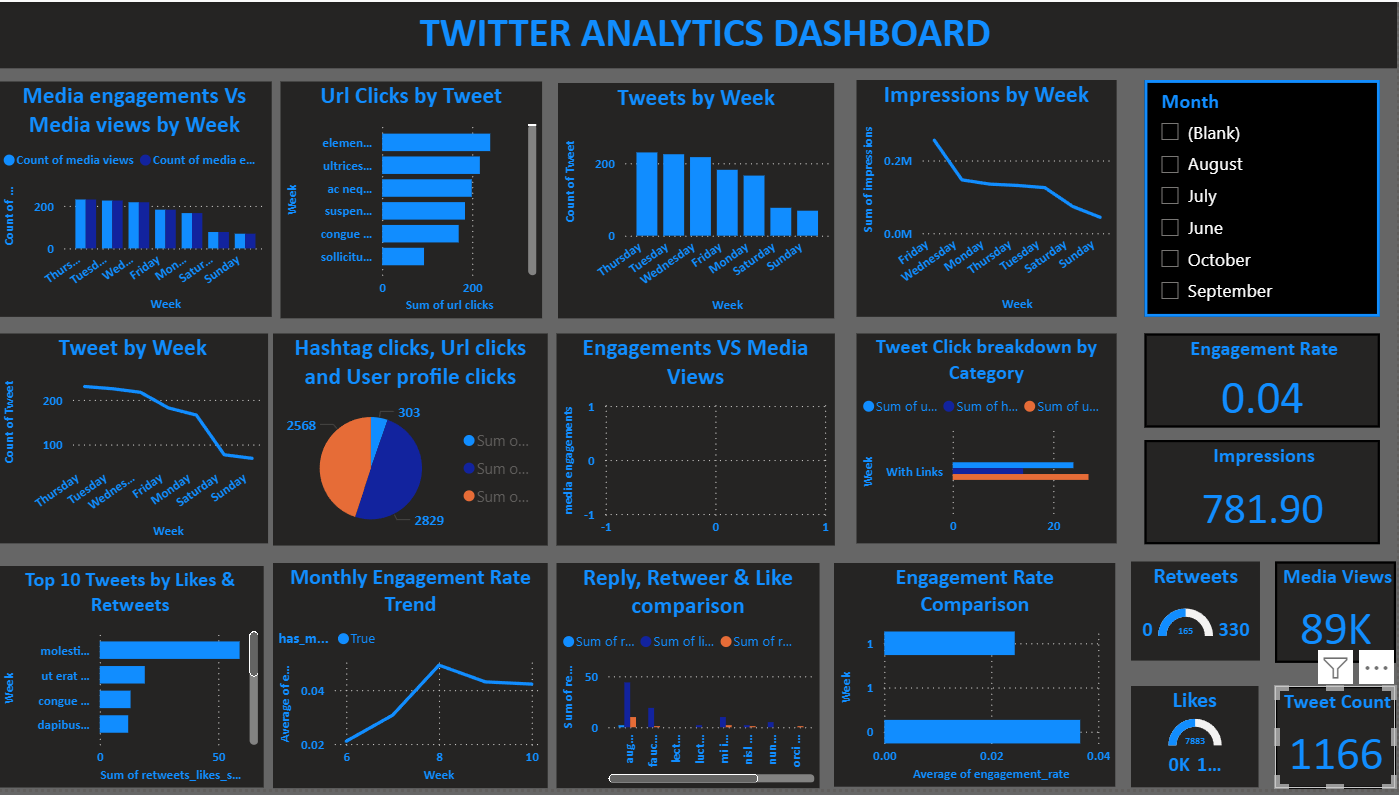

Layout of this report page (visuals, bound fields, positions):
{"tool":"powerbi","page":{"name":"Page 1","canvas":[1280,720],"ordinal":0},"visuals":[{"type":"card","title":"Media Views","fields":{"Values":["Sum(SocialMedia.media views)"]},"box":[1169,511.8,110.5,92.4],"z":0},{"type":"card","title":"Impressions","fields":{"Values":["Avg(SocialMedia.impressions)"]},"box":[1049.3,401.3,215,95.4],"z":1000},{"type":"card","title":"Engagement Rate","fields":{"Values":["Avg(SocialMedia.engagement rate)"]},"box":[1049.3,302.8,215,86.3],"z":2000},{"type":"card","title":"Tweet Count","fields":{"Values":["CountNonNull(SocialMedia.Tweet)"]},"box":[1169,625.4,110.5,93.9],"z":3000},{"type":"gauge","title":"Likes","fields":{"Y":["Sum(SocialMedia.likes)"]},"box":[1037.2,625.4,116.6,92.4],"z":4000},{"type":"gauge","title":"Retweets","fields":{"Y":["Max(SocialMedia.retweets)"]},"box":[1037.2,511.8,118.1,90.9],"z":5000},{"type":"slicer","fields":{"Values":["SocialMedia.MonthName"]},"box":[1049.3,71.2,215,216.5],"z":6000},{"type":"lineChart","title":"Tweet by Week","fields":{"Y":["Count(SocialMedia.Tweet)"],"Category":["SocialMedia.DayWeek"]},"box":[0,302.8,248.3,192.3],"z":7000},{"type":"lineChart","title":"Impressions by Week","fields":{"Category":["SocialMedia.DayWeek"],"Y":["Sum(SocialMedia.impressions)"]},"box":[785.9,71.2,237.7,216.5],"z":8000},{"type":"clusteredBarChart","title":"Url Clicks by Tweet","fields":{"Category":["SocialMedia.Tweet"],"Y":["Sum(SocialMedia.url clicks)"]},"box":[258.9,72.7,239.2,216.5],"z":9000},{"type":"pieChart","title":"Hashtag clicks, Url clicks and User profile clicks","fields":{"Y":["Sum(SocialMedia.hashtag clicks)","Sum(SocialMedia.url clicks)","Sum(SocialMedia.user profile clicks)"]},"box":[252.9,302.8,251.4,193.8],"z":10000},{"type":"clusteredColumnChart","title":"Media engagements Vs Media views by Week","fields":{"Category":["SocialMedia.DayWeek"],"Y":["CountNonNull(SocialMedia.media views)","CountNonNull(SocialMedia.media engagements)"]},"box":[0,72.7,251.4,215],"z":11000},{"type":"clusteredColumnChart","title":"Tweets by Week","fields":{"Category":["SocialMedia.DayWeek"],"Y":["CountNonNull(SocialMedia.Tweet)"]},"box":[513.3,74.2,252.9,215],"z":12000},{"type":"clusteredBarChart","title":"Top 10 Tweets by Likes & Retweets","fields":{"Category":["SocialMedia.tweet_text"],"Y":["Sum(SocialMedia.retweets_likes_sum)"]},"box":[0,516.3,243.8,202.9],"z":13000},{"type":"clusteredBarChart","title":"Tweet Click breakdown by Category","fields":{"Category":["SocialMedia.Tweet Category"],"Y":["Sum(SocialMedia.user profile clicks)","Sum(SocialMedia.hashtag clicks)","Sum(SocialMedia.url clicks)"]},"box":[785.9,302.8,237.7,192.3],"z":14000},{"type":"lineChart","title":"Monthly Engagement Rate Trend","fields":{"Category":["SocialMedia.Month"],"Y":["Avg(SocialMedia.engagement rate)"],"Series":["SocialMedia.has_media"]},"box":[252.9,513.3,251.4,205.9],"z":15000},{"type":"clusteredColumnChart","title":"Reply, Retweer & Like comparison","fields":{"Category":["SocialMedia.Tweet"],"Y":["Sum(SocialMedia.retweets)","Sum(SocialMedia.likes)","Sum(SocialMedia.replies)"]},"box":[511.8,513.3,240.8,205.9],"z":16000},{"type":"clusteredBarChart","title":"Engagement Rate Comparison","fields":{"Y":["Avg(SocialMedia.engagement_rate)"],"Category":["SocialMedia.app_opens"]},"box":[766.2,513.3,257.4,204.4],"z":17000},{"type":"scatterChart","title":"Engagements VS Media Views","fields":{"X":["SocialMedia.media views"],"Y":["SocialMedia.media engagements"]},"box":[511.8,302.8,254.4,193.8],"z":18000},{"type":"textbox","box":[0,0,1281,60.6],"z":19000}]}

Visuals, with their boxes in screenshot pixels (x1, y1, x2, y2), scaled from the page's 1280x720 canvas onto the 1399x795 screenshot:
"Media Views" card: l=1278, t=565, r=1398, b=667
"Impressions" card: l=1147, t=443, r=1382, b=548
"Engagement Rate" card: l=1147, t=334, r=1382, b=430
"Tweet Count" card: l=1278, t=691, r=1398, b=794
"Likes" gauge: l=1134, t=691, r=1261, b=793
"Retweets" gauge: l=1134, t=565, r=1263, b=665
slicer - SocialMedia.MonthName: l=1147, t=79, r=1382, b=318
"Tweet by Week" lineChart: l=0, t=334, r=271, b=547
"Impressions by Week" lineChart: l=859, t=79, r=1119, b=318
"Url Clicks by Tweet" clusteredBarChart: l=283, t=80, r=544, b=319
"Hashtag clicks, Url clicks and User profile clicks" pieChart: l=276, t=334, r=551, b=548
"Media engagements Vs Media views by Week" clusteredColumnChart: l=0, t=80, r=275, b=318
"Tweets by Week" clusteredColumnChart: l=561, t=82, r=837, b=319
"Top 10 Tweets by Likes & Retweets" clusteredBarChart: l=0, t=570, r=266, b=794
"Tweet Click breakdown by Category" clusteredBarChart: l=859, t=334, r=1119, b=547
"Monthly Engagement Rate Trend" lineChart: l=276, t=567, r=551, b=794
"Reply, Retweer & Like comparison" clusteredColumnChart: l=559, t=567, r=823, b=794
"Engagement Rate Comparison" clusteredBarChart: l=837, t=567, r=1119, b=792
"Engagements VS Media Views" scatterChart: l=559, t=334, r=837, b=548
textbox: l=0, t=0, r=1398, b=67
